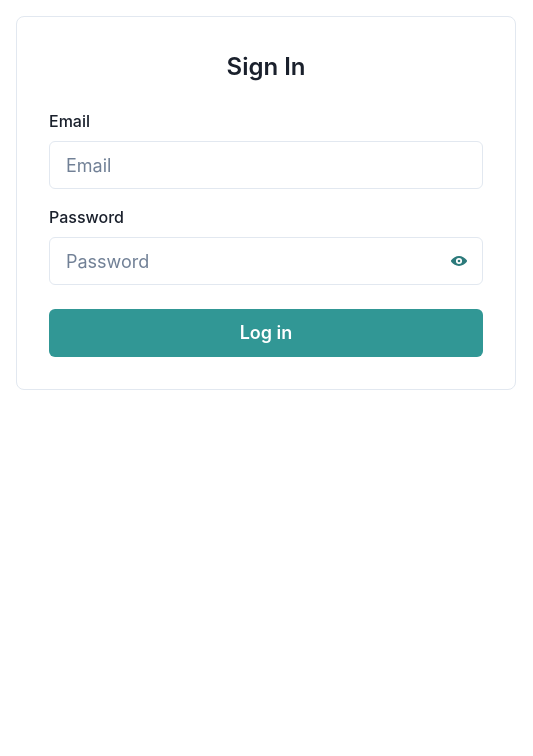
Test case: LoginForm.tsx › form should be submitted
The image size is (533, 756).
Type "test@ukr.net" into the field with test id "email".
click(266, 165); type("test@ukr.net")  # box [49, 141, 483, 189]
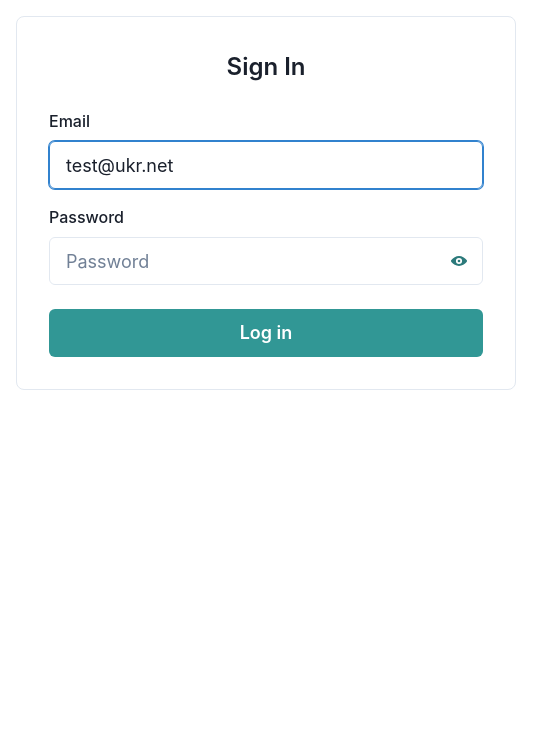
Type "123456789" into the password field with test id "password".
click(266, 261); type("123456789")  # box [49, 237, 483, 285]
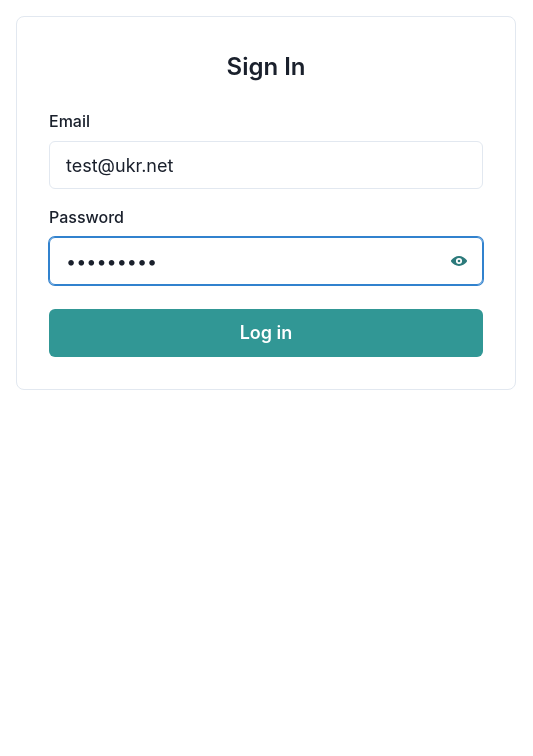
Click the button "Log in".
click(266, 333)  # box [49, 309, 483, 357]
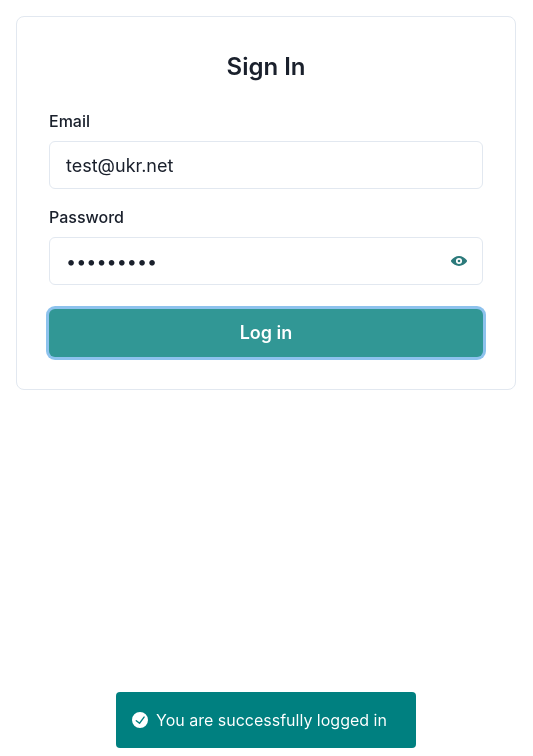
Check: the text "You are successfully logged in" is shown, box [156, 708, 387, 732]
